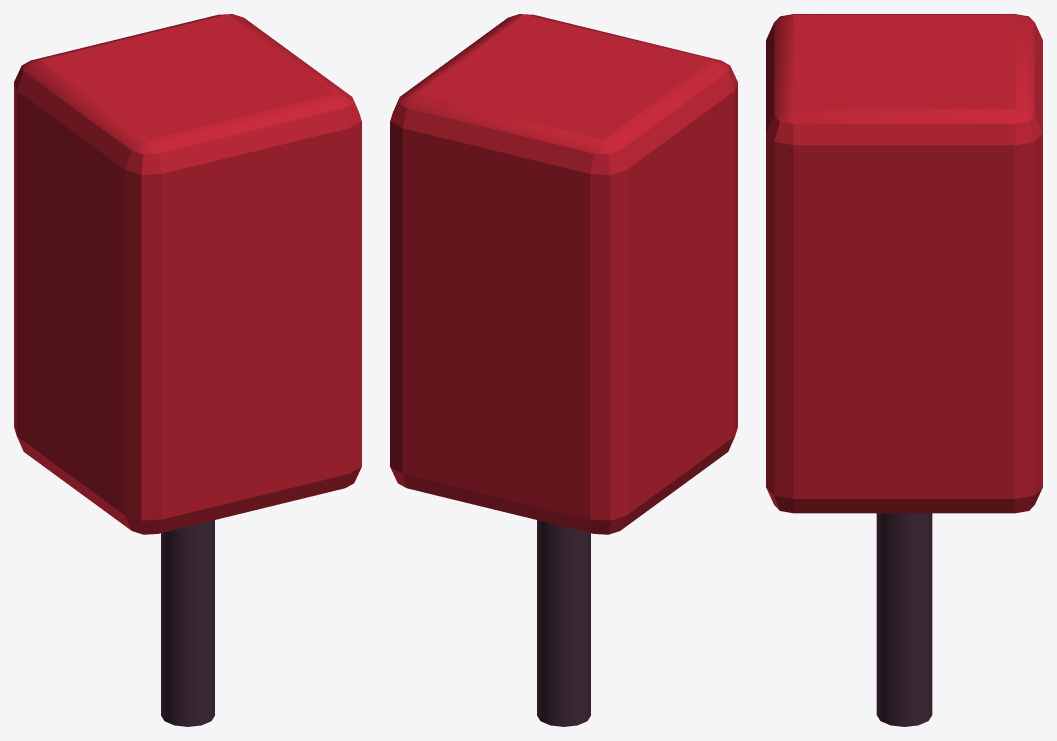
3 renders of one model, left to right at view 1: azimuth 30°, elevation 25°; view 2: azimuth 150°, elevation 25°; view 3: azimuth 270°, elevation 25°, orthographic. The views are drawn at different scales.
Visible parts, largest first — view 1: leaves, trunk; view 2: leaves, trunk; view 3: leaves, trunk.
Part boxes in pixels (bbox=[...]): leaves: bbox=[14, 14, 361, 534]; trunk: bbox=[161, 520, 214, 726]; leaves: bbox=[390, 14, 737, 534]; trunk: bbox=[537, 520, 590, 726]; leaves: bbox=[766, 14, 1042, 513]; trunk: bbox=[876, 513, 932, 726].
Bounding box in the file's own units: 1 × 1 × 2.61.
